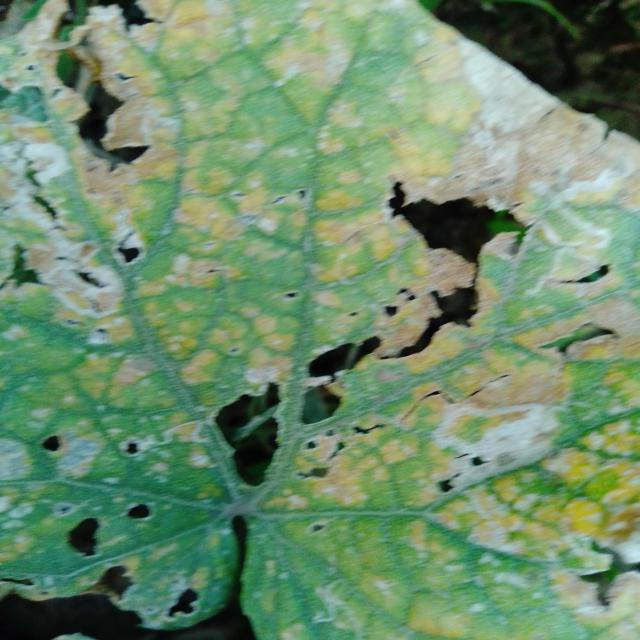cucumber_anthracnose: (9, 4, 633, 632)
